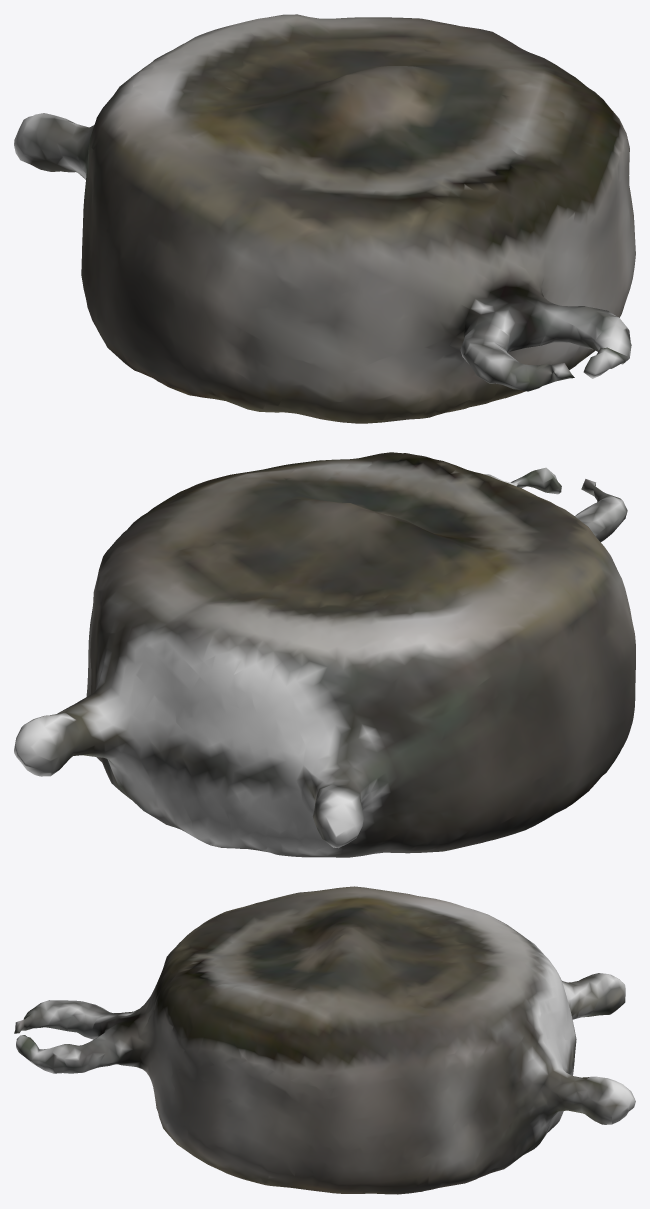
Rendered from alarm.glb.
The picture shows the model from 3 angles, top to bottom: view 1: azimuth 30°, elevation 25°; view 2: azimuth 150°, elevation 25°; view 3: azimuth 270°, elevation 25°; orthographic projection. The views are drawn at different scales.
Size of the model in its own units: 0.6806 by 0.3486 by 0.9995.
